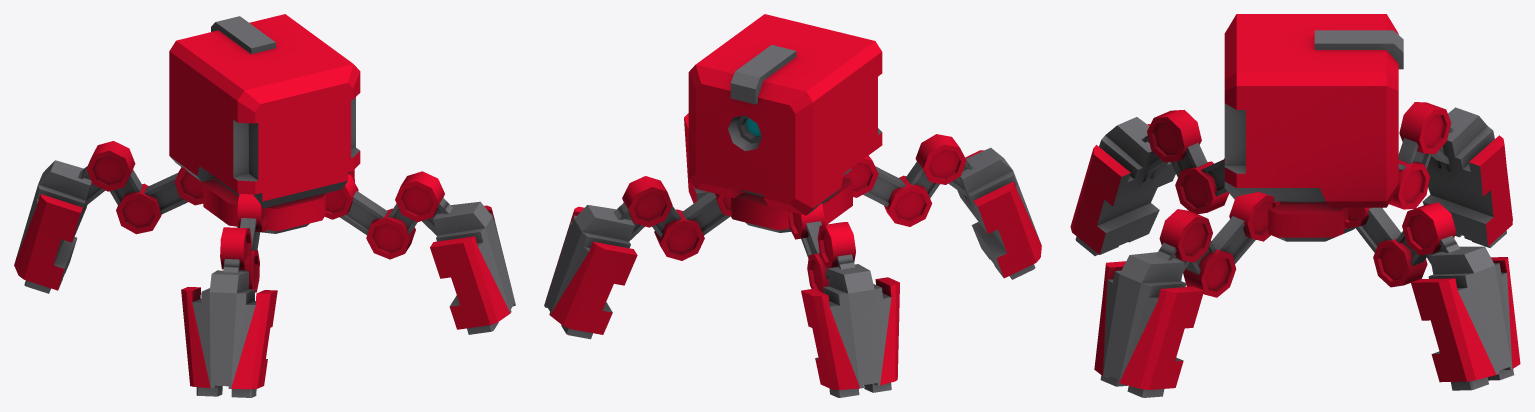
File: Monster1_Idle12.obj
3 views of the same model, side by side, from view 1: azimuth 30°, elevation 25°; view 2: azimuth 150°, elevation 25°; view 3: azimuth 270°, elevation 25° (orthographic). The views are drawn at different scales.
Parts seen in each view (by area): view 1: Box006, Object021, Object017, Object025, Object020, Object028, Object027, Object018, Object019, Object026, Object024, Object022; view 2: Box006, Object025, Object013, Object021, Object016, Object024, Object023, Object015, Object022, Object028, Object014, Object026 (+2 smaller); view 3: Box006, Object017, Object013, Object021, Object025, Object018, Object016, Object023, Object020, Object024, Object028, Object015 (+4 smaller).
Part boxes in pixels (box(x1,y1,x2,y2)): Box006: box(169, 14, 360, 233); Object021: box(181, 270, 277, 397); Object017: box(430, 201, 515, 334); Object025: box(14, 160, 91, 293); Object020: box(395, 171, 452, 235); Object028: box(78, 141, 135, 206); Object027: box(110, 169, 161, 234); Object018: box(325, 174, 387, 234); Object019: box(366, 204, 417, 259); Object026: box(144, 167, 215, 214); Object024: box(220, 227, 251, 272); Object022: box(237, 193, 266, 250); Box006: box(688, 14, 882, 232); Object025: box(801, 264, 899, 397); Object013: box(544, 205, 637, 339); Object021: box(957, 147, 1041, 279); Object016: box(613, 176, 672, 240); Object024: box(915, 134, 973, 197); Object023: box(884, 161, 939, 226); Object015: box(652, 206, 704, 260); Object022: box(843, 155, 905, 206); Object028: box(817, 222, 855, 269); Object014: box(682, 192, 745, 235); Object026: box(788, 203, 824, 258); Box006: box(1224, 14, 1403, 241); Object017: box(1094, 252, 1203, 397); Object013: box(1411, 246, 1520, 390); Object021: box(1070, 117, 1175, 255); Object025: box(1422, 107, 1512, 247); Object018: box(1211, 192, 1280, 263); Object016: box(1402, 202, 1460, 264); Object023: box(1171, 142, 1229, 213); Object020: box(1156, 209, 1212, 273); Object024: box(1141, 110, 1201, 173); Object028: box(1399, 102, 1453, 164); Object015: box(1373, 231, 1427, 287).
Size of the model in its own units: 150 by 105 by 153.
